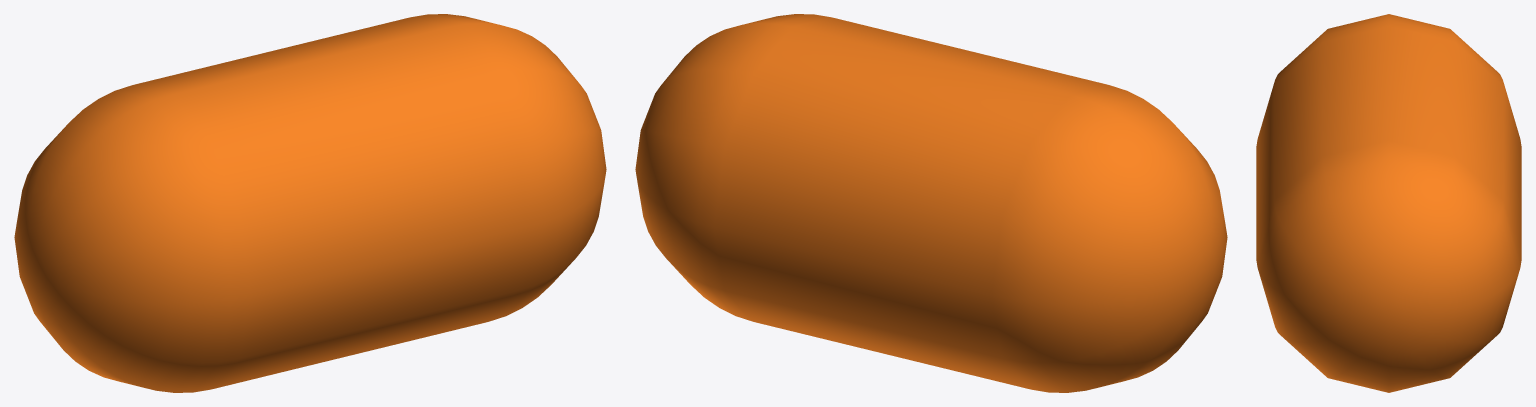
The picture shows the model from 3 angles, left to right: view 1: azimuth 30°, elevation 25°; view 2: azimuth 150°, elevation 25°; view 3: azimuth 270°, elevation 25°; orthographic projection. The views are drawn at different scales.
Visible parts, largest first — view 1: gripper_frame; view 2: gripper_frame; view 3: gripper_frame.
Boxes of the visible parts, <box> form: gripper_frame: <box>14,14,606,392</box>; gripper_frame: <box>635,14,1227,392</box>; gripper_frame: <box>1256,14,1521,392</box>.
Bounding box in the file's own units: 0.0231 × 0.0115 × 0.0115.
